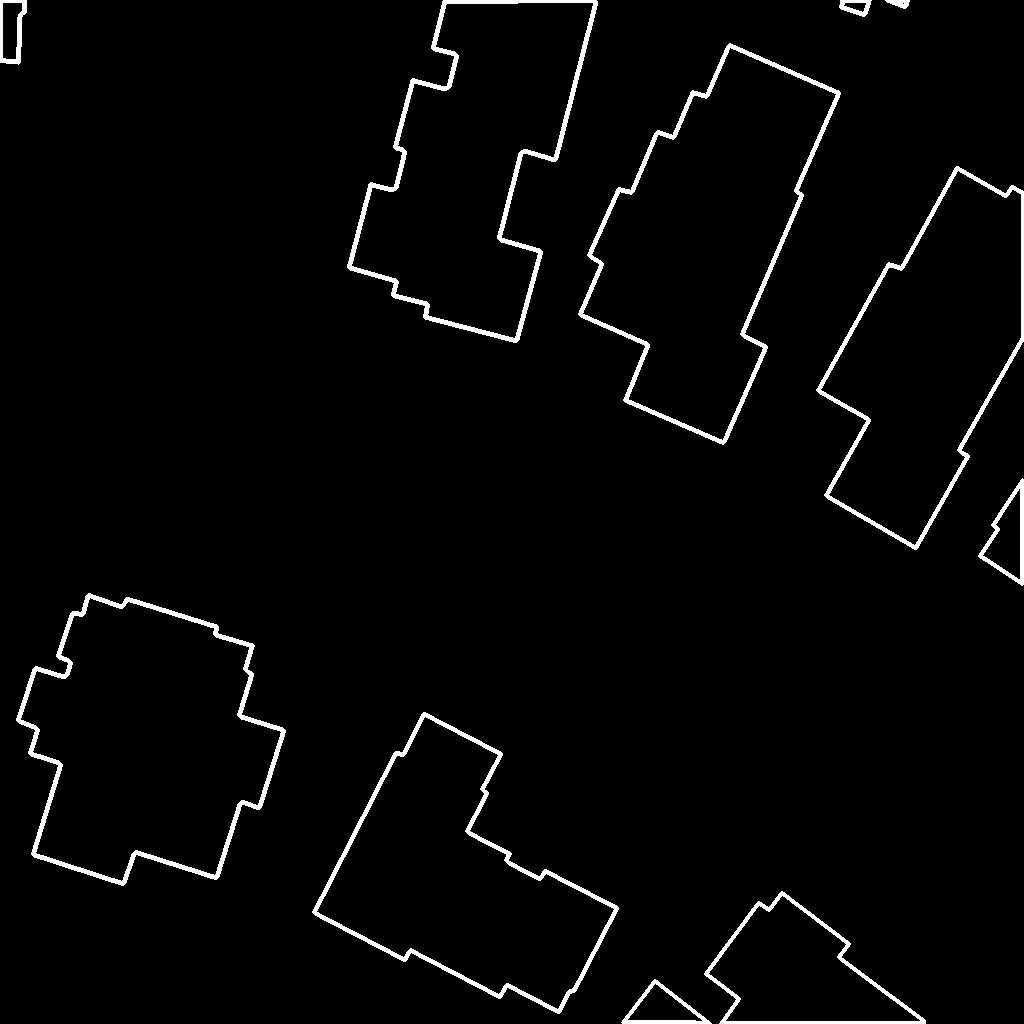building: (580, 45, 840, 444), (314, 714, 618, 1013), (349, 0, 597, 342), (818, 168, 1024, 549), (18, 595, 285, 885), (623, 893, 926, 1024), (980, 480, 1024, 585), (0, 0, 25, 63), (841, 0, 909, 16), (1022, 5, 1024, 9)
